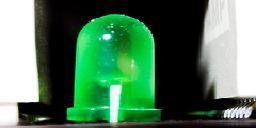LED: (66, 13, 164, 128)
